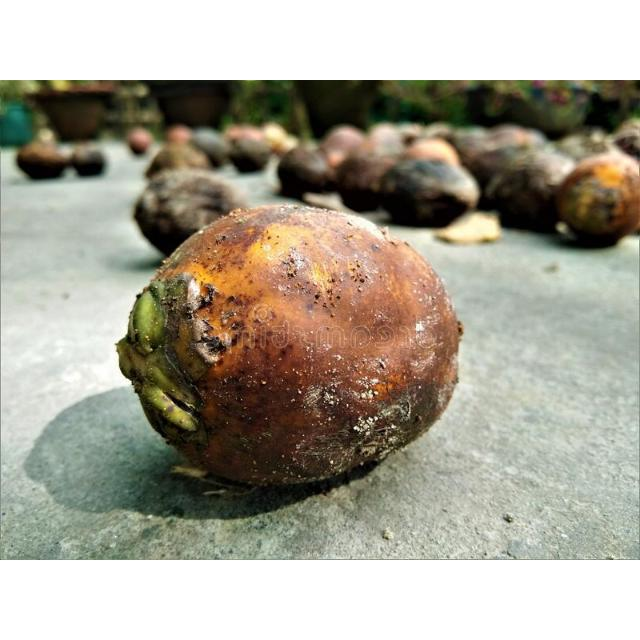damaged: (114, 206, 463, 490)
